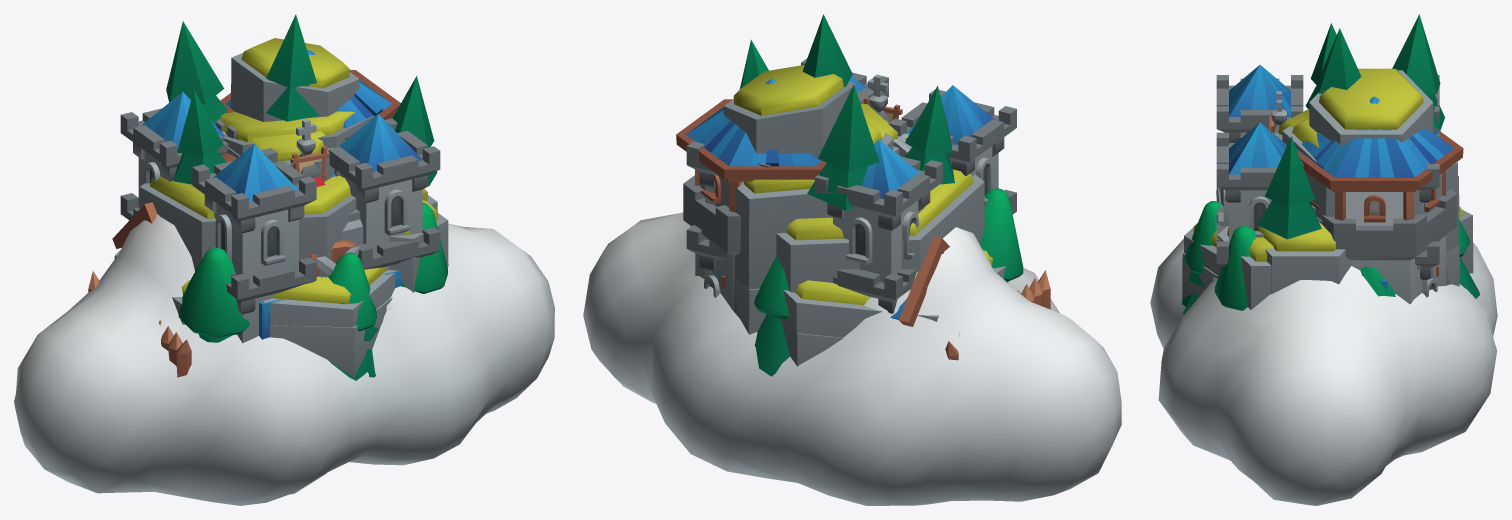
Rendered from town.glb.
The picture shows the model from 3 angles, left to right: view 1: azimuth 30°, elevation 25°; view 2: azimuth 150°, elevation 25°; view 3: azimuth 270°, elevation 25°; orthographic projection. The views are drawn at different scales.
Visible parts, largest first — view 1: cloud_big, building_barracks_blue, mountain_A_grass_trees, mountain_B_grass, trees_B_large, building_archeryrange_blue, fence_wood_straight, building_church_red; view 2: cloud_big, mountain_A_grass_trees, mountain_B_grass, building_barracks_blue, building_archeryrange_blue, trees_B_large, fence_wood_straight, building_church_red; view 3: cloud_big, building_archeryrange_blue, mountain_B_grass, building_barracks_blue, mountain_A_grass_trees, trees_B_large.
Boxes of the visible parts, x1,y1,x2,y2 form: cloud_big: [14, 214, 554, 505]; building_barracks_blue: [120, 92, 440, 343]; mountain_A_grass_trees: [139, 14, 448, 327]; mountain_B_grass: [114, 38, 437, 378]; trees_B_large: [178, 203, 447, 380]; building_archeryrange_blue: [112, 50, 400, 248]; fence_wood_straight: [88, 271, 191, 377]; building_church_red: [296, 119, 325, 186]; cloud_big: [583, 212, 1121, 505]; mountain_A_grass_trees: [734, 14, 984, 366]; mountain_B_grass: [700, 64, 1007, 364]; building_barracks_blue: [686, 58, 1016, 313]; building_archeryrange_blue: [676, 78, 949, 326]; trees_B_large: [754, 188, 1023, 376]; fence_wood_straight: [945, 270, 1050, 360]; building_church_red: [867, 74, 889, 122]; cloud_big: [1150, 239, 1497, 505]; building_archeryrange_blue: [1296, 96, 1463, 304]; mountain_B_grass: [1182, 68, 1472, 299]; building_barracks_blue: [1216, 65, 1439, 293]; mountain_A_grass_trees: [1184, 14, 1473, 309]; trees_B_large: [1182, 201, 1479, 310].
Size of the model in its own units: 3.61 by 3.08 by 2.24.
2 materials, 2 textured.
